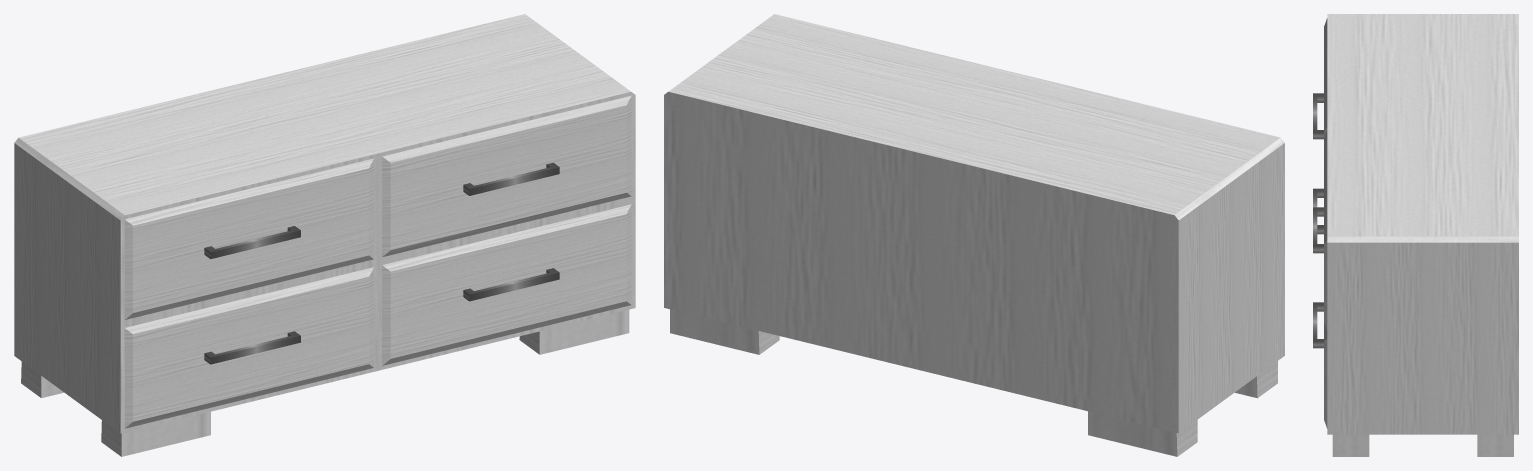
File: Kids_Dresser_F.FBX
The picture shows the model from 3 angles, left to right: view 1: azimuth 30°, elevation 25°; view 2: azimuth 150°, elevation 25°; view 3: azimuth 270°, elevation 25°; orthographic projection. The views are drawn at different scales.
Parts seen in each view (by area): view 1: Kids_Dresser; view 2: Kids_Dresser; view 3: Kids_Dresser.
Boxes of the visible parts, x1,y1,x2,y2 form: Kids_Dresser: (14,14,635,456); Kids_Dresser: (664,14,1284,456); Kids_Dresser: (1313,14,1518,456).
Bounding box in the file's own units: 284 × 129 × 109.
